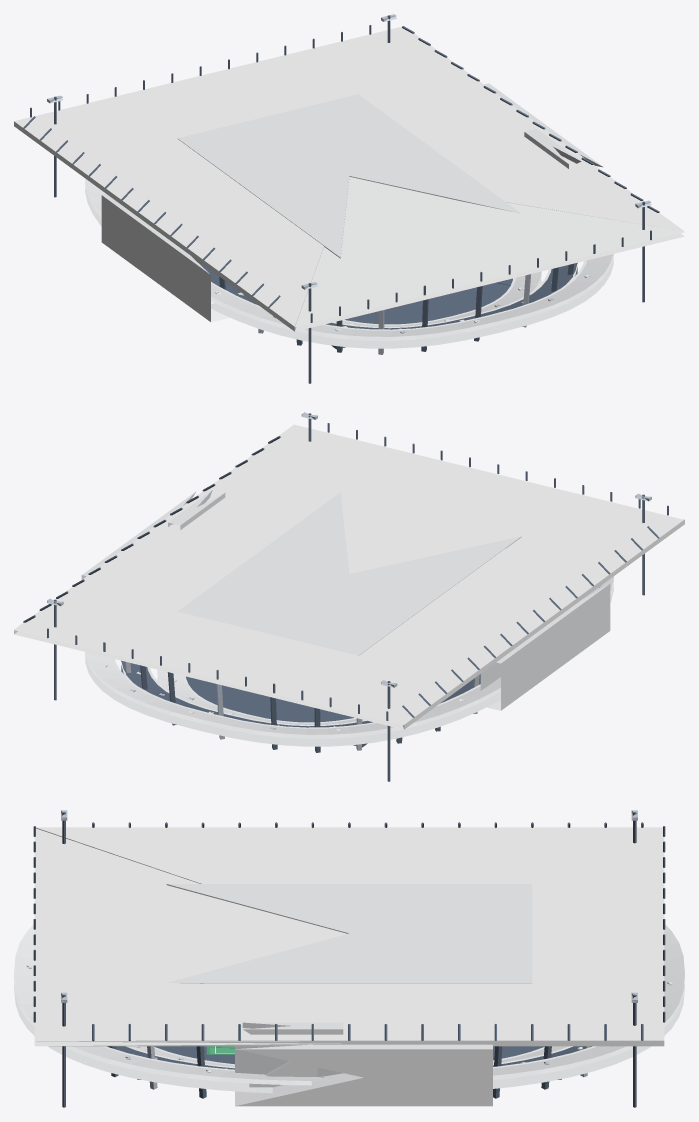
The model's file is neo-quimica.glb.
3 views of the same model, one above another, from view 1: azimuth 30°, elevation 25°; view 2: azimuth 150°, elevation 25°; view 3: azimuth 270°, elevation 25° (orthographic). The views are drawn at different scales.
Parts seen in each view (by area): view 1: Neo Química Arena; view 2: Neo Química Arena; view 3: Neo Química Arena.
Boxes of the visible parts, box(x1,y1,x2,y2) form: Neo Química Arena: box(14, 14, 684, 383); Neo Química Arena: box(14, 412, 684, 781); Neo Química Arena: box(14, 810, 684, 1107).
Bounding box in the file's own units: 71.3 × 17.65 × 91.67.
